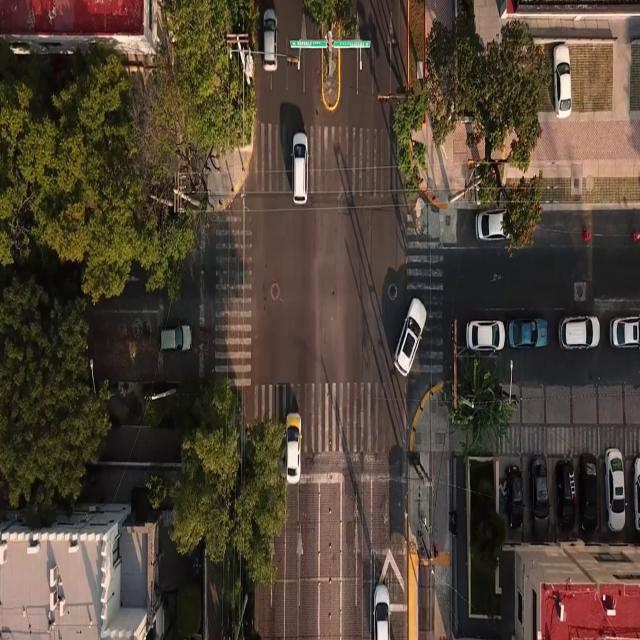car: (394, 298, 426, 375), (605, 448, 625, 531), (579, 454, 598, 533), (556, 459, 575, 531), (553, 44, 571, 118), (559, 316, 599, 349), (466, 320, 505, 351), (529, 456, 548, 519), (292, 132, 308, 204), (505, 465, 523, 528), (508, 319, 547, 348), (286, 413, 301, 484), (476, 210, 506, 241), (263, 8, 277, 71), (610, 317, 639, 347), (159, 325, 192, 351), (374, 584, 389, 639), (634, 458, 639, 531)
